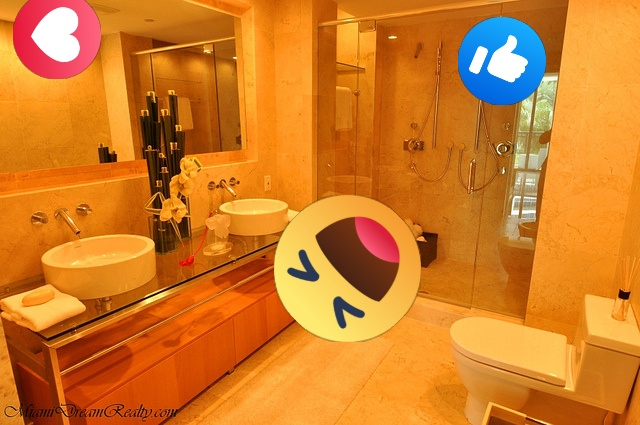haha: (274, 195, 421, 342)
like: (458, 17, 546, 105)
love: (13, 0, 101, 79)
